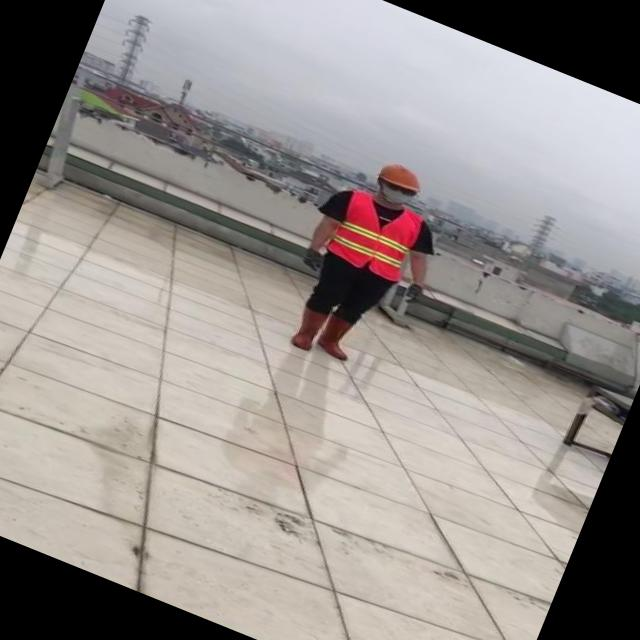hard_hat: (373, 156, 428, 195)
safety_vest: (322, 185, 426, 284)
vehicle: (259, 134, 471, 387)
work_boots: (312, 306, 365, 364), (288, 302, 334, 356)
